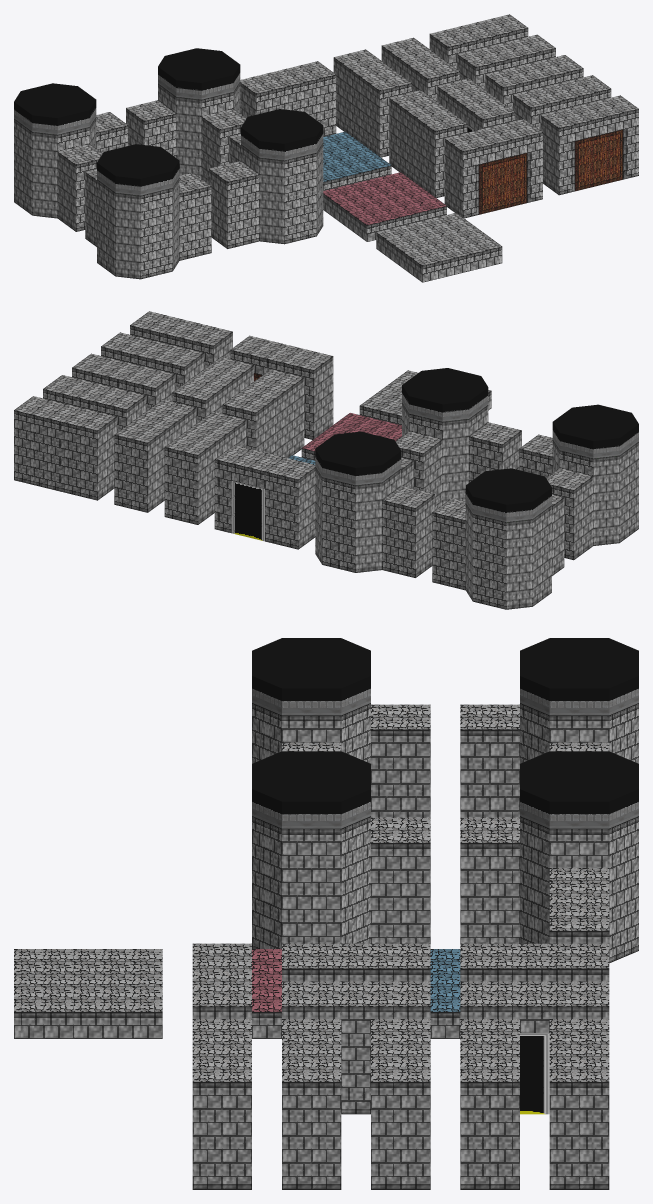
Rendered from CastleModularPieces.glb.
The picture shows the model from 3 angles, top to bottom: view 1: azimuth 30°, elevation 25°; view 2: azimuth 150°, elevation 25°; view 3: azimuth 270°, elevation 25°; orthographic projection. The views are drawn at different scales.
Parts seen in each view (by area): view 1: CASTLE-WALL-2, TOP.001, TOP, CASTLE-WALL-1, CASTLE-WALL-2.010, CASTLE-WALL-2.011, CUBE1.001, CASTLE-WALL-2.008, CASTLE-WALL-2.002, CUBE1.002, CASTLE-WALL-2.001, CUBE1 (+6 smaller); view 2: TOP, CASTLE-WALL-1, CASTLE-WALL-2, TOP.001, CASTLE-WALL-2.001, CASTLE-WALL-2.004, CASTLE-WALL-2.002, CASTLE-WALL-2.003, CASTLE-WALL-2.008, CASTLE-WALL-2.010, CASTLE-WALL-2.006, CASTLE-WALL-2.011 (+5 smaller); view 3: TOP.001, CASTLE-WALL-1, TOP, CASTLE-WALL-2, CUBE1.001, CASTLE-WALL-2.004, CASTLE-WALL-2.005, CASTLE-WALL-2.006, CASTLE-WALL-2.007, CASTLE-WALL-2.011, CASTLE-WALL-2.003, CASTLE-WALL-2.009 (+6 smaller).
Boxes of the visible parts, x1,y1,x2,y2 form: CASTLE-WALL-2: (85, 144, 211, 279); TOP.001: (209, 109, 323, 248); TOP: (14, 83, 128, 231); CASTLE-WALL-1: (126, 48, 246, 183); CASTLE-WALL-2.010: (444, 119, 542, 218); CASTLE-WALL-2.011: (540, 95, 638, 195); CUBE1.001: (376, 212, 502, 282); CASTLE-WALL-2.008: (389, 90, 467, 197); CASTLE-WALL-2.002: (333, 49, 411, 157); CUBE1.002: (323, 172, 446, 241); CASTLE-WALL-2.001: (240, 61, 336, 136); CUBE1: (323, 131, 391, 190); TOP: (432, 468, 564, 609); CASTLE-WALL-1: (315, 431, 434, 577); CASTLE-WALL-2: (519, 404, 638, 560); TOP.001: (395, 368, 521, 509); CASTLE-WALL-2.001: (214, 445, 315, 549); CASTLE-WALL-2.004: (14, 396, 116, 500); CASTLE-WALL-2.002: (164, 411, 246, 524); CASTLE-WALL-2.003: (114, 399, 196, 512); CASTLE-WALL-2.008: (222, 369, 304, 457); CASTLE-WALL-2.010: (230, 335, 333, 439); CASTLE-WALL-2.006: (72, 353, 174, 411); CASTLE-WALL-2.011: (130, 311, 232, 368); TOP.001: (252, 751, 430, 948); CASTLE-WALL-1: (460, 751, 638, 963); TOP: (460, 638, 638, 817); CASTLE-WALL-2: (252, 638, 430, 817); CUBE1.001: (14, 949, 162, 1038); CASTLE-WALL-2.004: (549, 1019, 609, 1189); CASTLE-WALL-2.005: (460, 1019, 519, 1189); CASTLE-WALL-2.006: (371, 1019, 430, 1189); CASTLE-WALL-2.007: (282, 1019, 341, 1189); CASTLE-WALL-2.011: (192, 1019, 251, 1189); CASTLE-WALL-2.003: (460, 981, 609, 1114); CASTLE-WALL-2.009: (282, 981, 430, 1114).
Size of the model in its own units: 31 by 6 by 21.
Materials: 18 (18 with a texture image).
